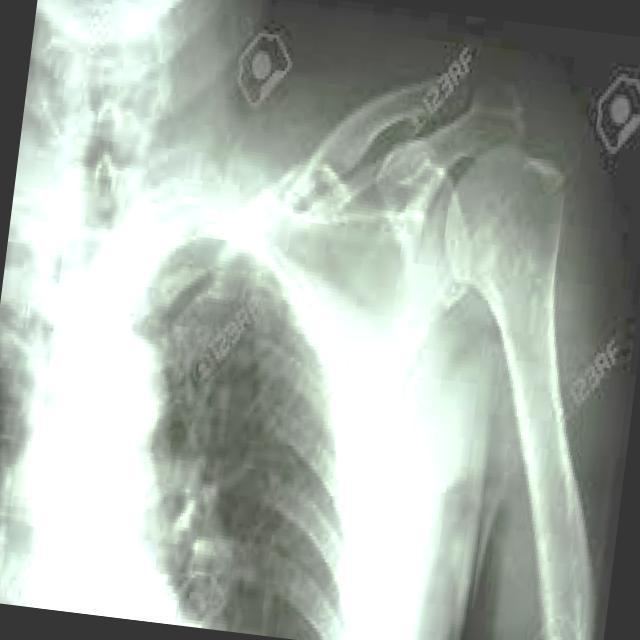Comminuted Fracture: (384, 22, 542, 175)
